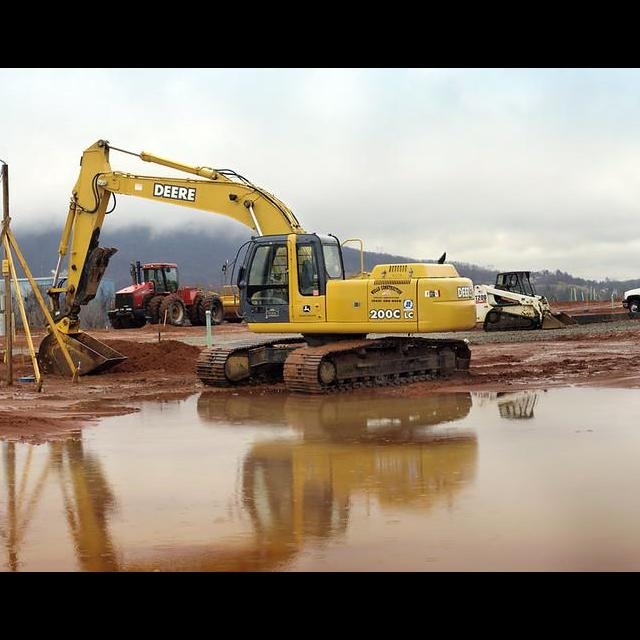Excavator: (39, 133, 481, 388)
wheel loader: (107, 261, 242, 327), (474, 270, 579, 330)
